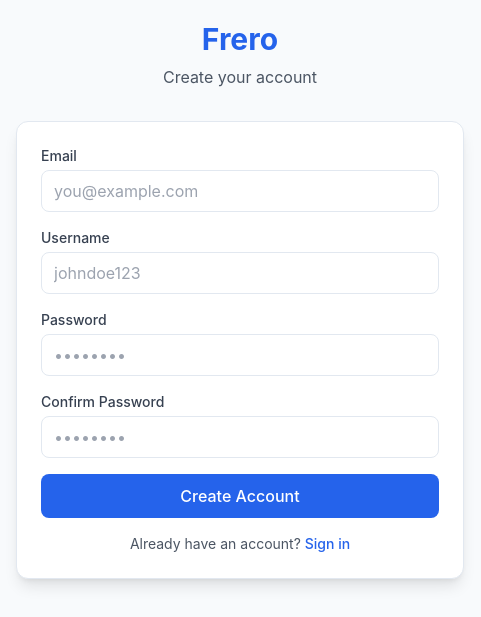
RegisterPage › shows password validation error for weak password
Type "user@example.com" into the field labelled "Email" at (240, 191), box [41,170,439,212]
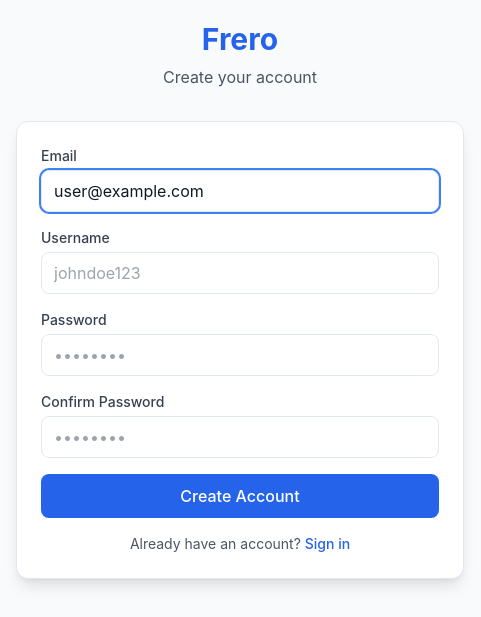
Type "validuser" into the field labelled "Username" at (240, 273), box [41,252,439,294]
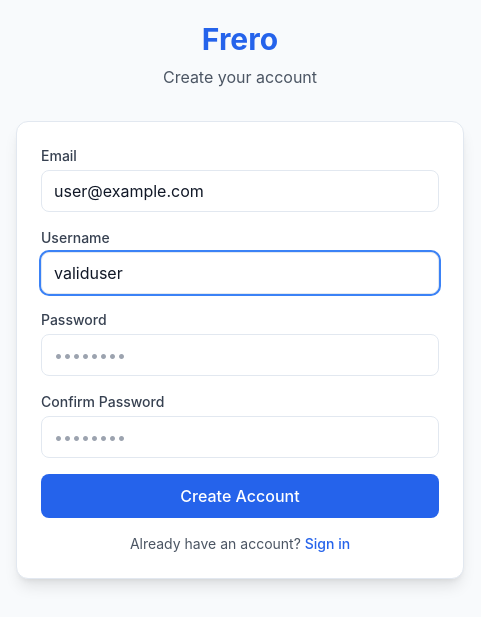
Type "weak" into the password field labelled "Password" at (240, 355), box [41,334,439,376]
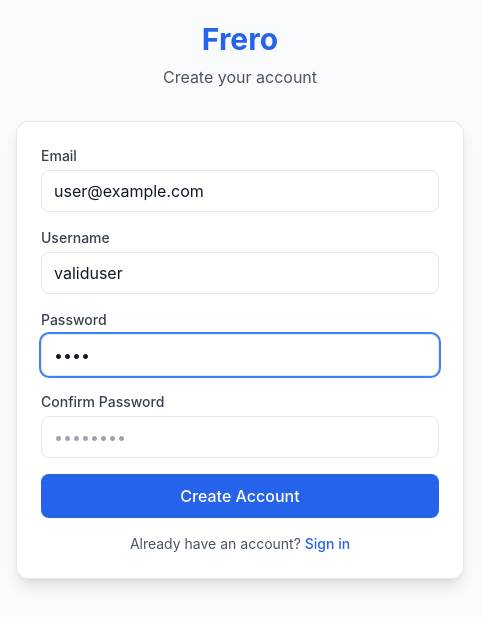
Type "weak" into the password field labelled "Confirm Password" at (240, 437), box [41,416,439,458]
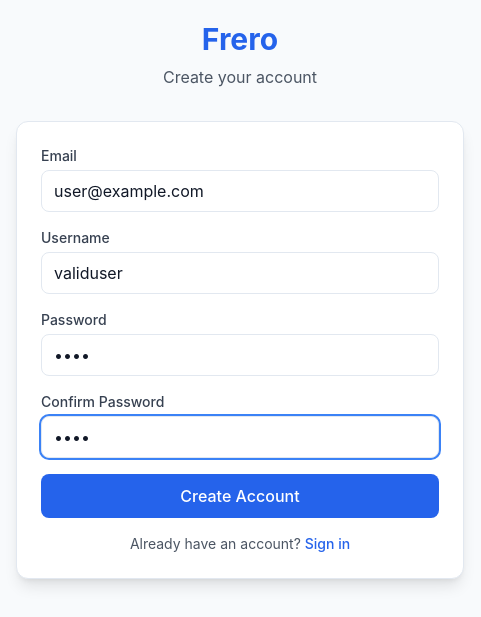
Click the button "Create Account" at (240, 496), box [41,474,439,518]
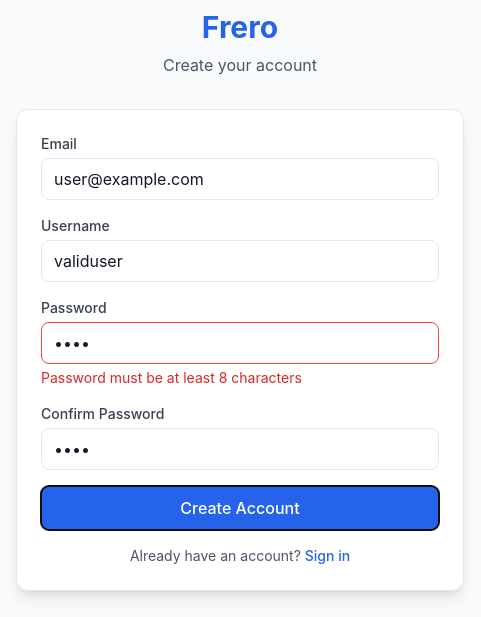
Now the text "Password must be at least 8 characters" is shown, box [41,369,302,386]
